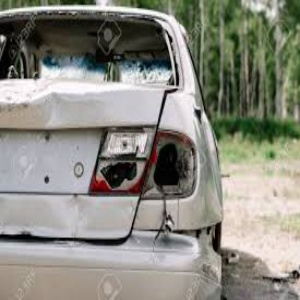tail_lights: (89, 120, 201, 202)
